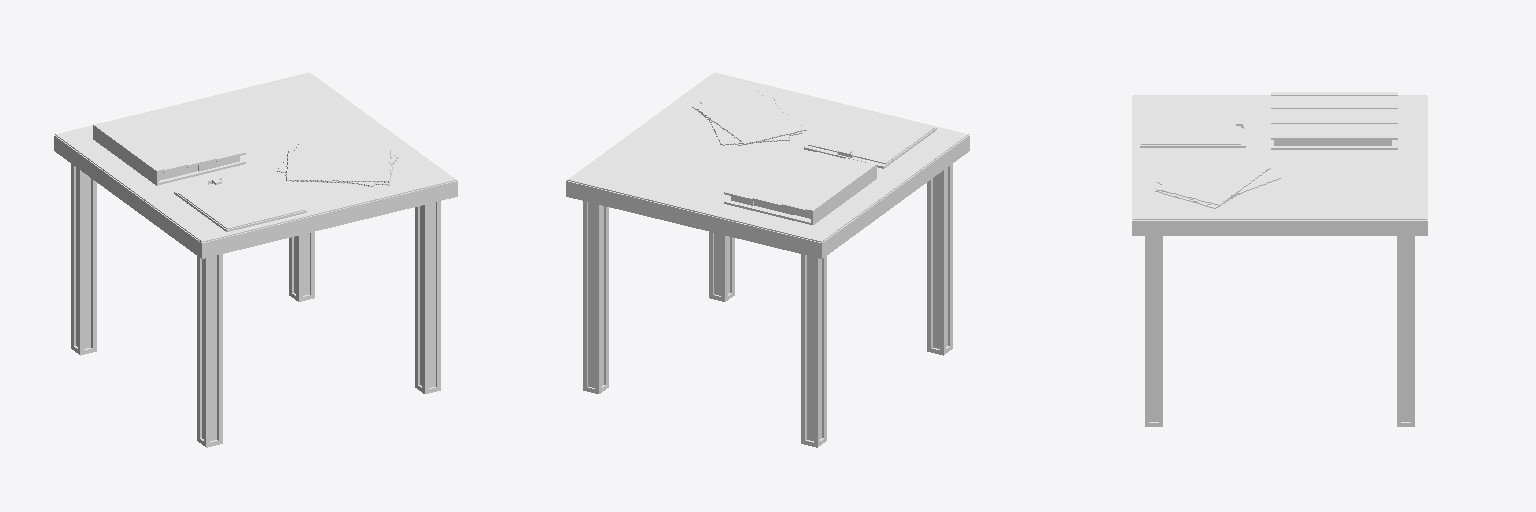
Rendered from MesaComDocumentos.obj.
3 views of the same model, side by side, from view 1: azimuth 30°, elevation 25°; view 2: azimuth 150°, elevation 25°; view 3: azimuth 270°, elevation 25° (orthographic).
Visible parts, largest first — view 1: object 1; view 2: object 1; view 3: object 1.
Part boxes in pixels (x1,y1,x2,y2): object 1: (54, 72, 457, 447); object 1: (566, 72, 969, 447); object 1: (1132, 92, 1427, 426).
Bounding box in the file's own units: 25.6 × 21.7 × 25.6.